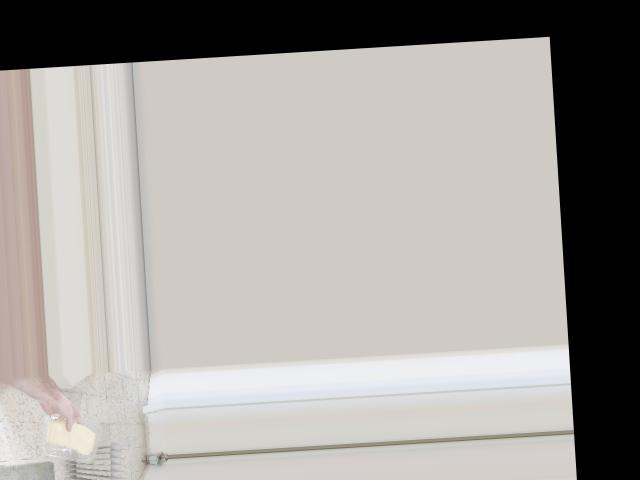cheese: (41, 414, 101, 458)
